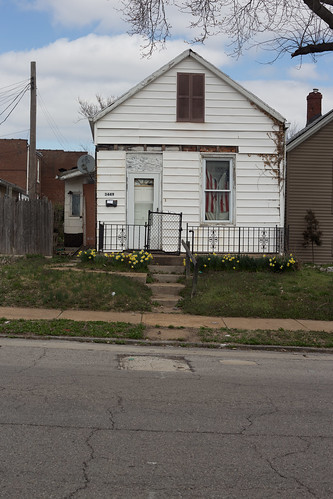building: (85, 47, 295, 264)
sidewalk: (1, 254, 331, 354)
street: (1, 340, 333, 499)
